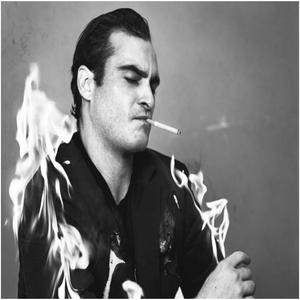cigarette: (143, 120, 183, 138)
